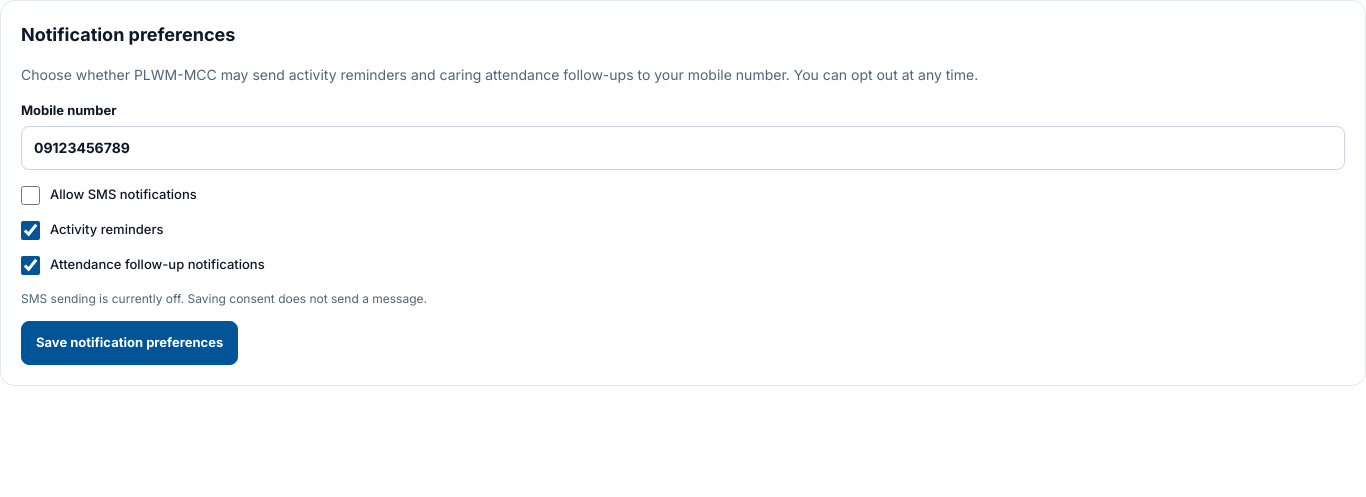
requires explicit consent before enabling a number and clearly shows sending is off
The image size is (1366, 497).
Expected: the field labelled "Mobile number" holds "09123456789", [21,126,1345,170]
Expected: the text "SMS sending is currently off" is shown, [21,291,427,306]
Click the checkbox labelled "Allow SMS notifications". click: point(30, 196)
box: [21,186,40,205]
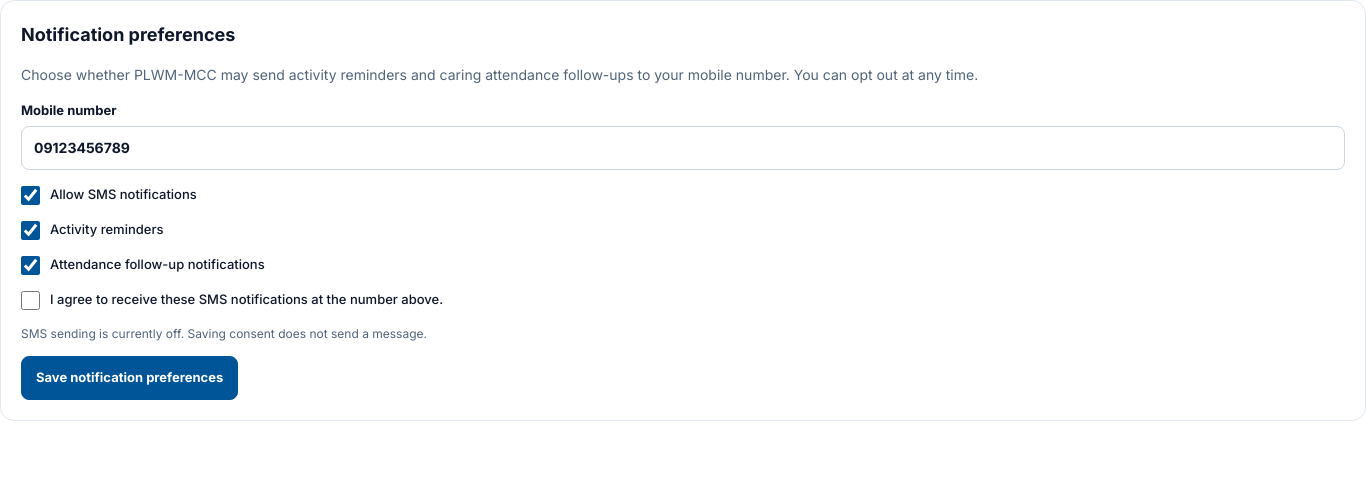
Click the button "Save notification preferences". click: point(130, 378)
box: [21,356,238,400]
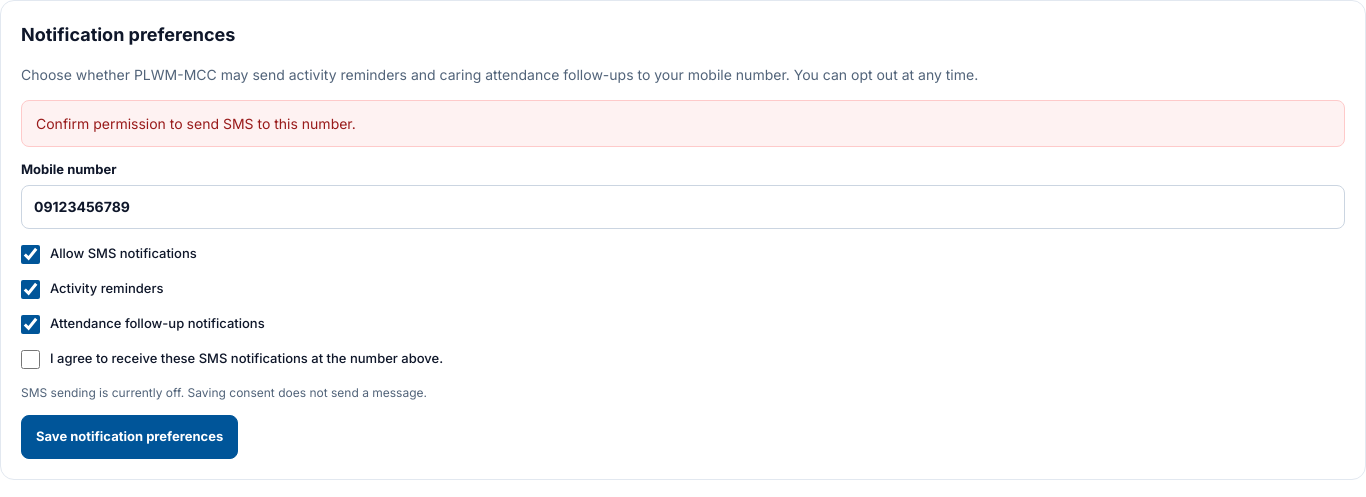
Now the message shows "Confirm permission", box [36,115,356,132]
Click the checkbox labelled "I agree to receive". click: point(30, 360)
box: [21,350,40,369]
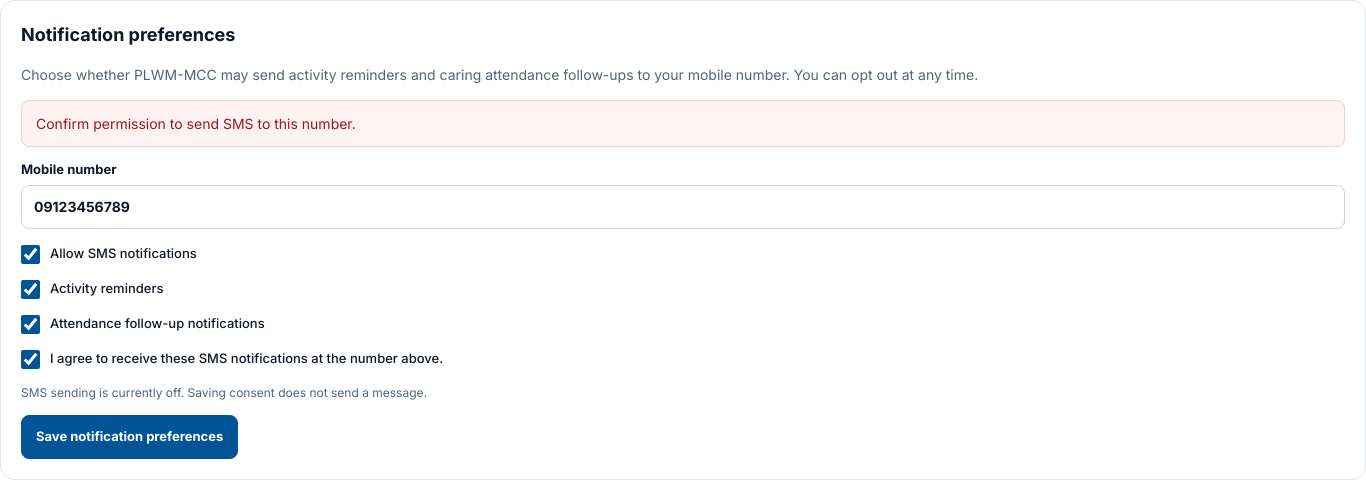
Click the button "Save notification preferences". click: point(130, 437)
box: [21,415,238,459]
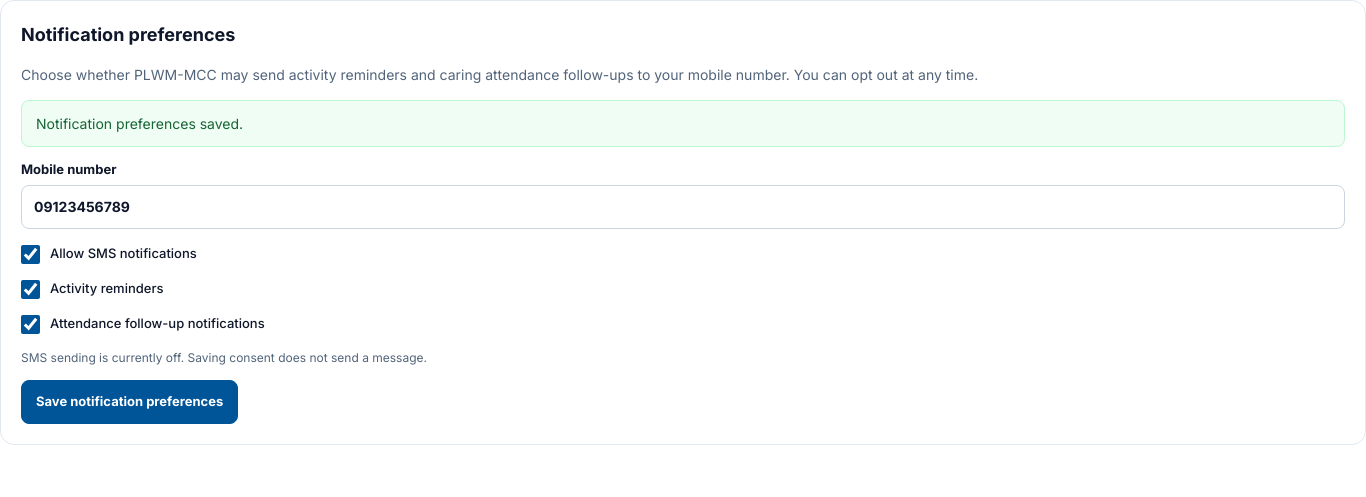
Now the message shows "preferences saved", box [36,115,243,132]
